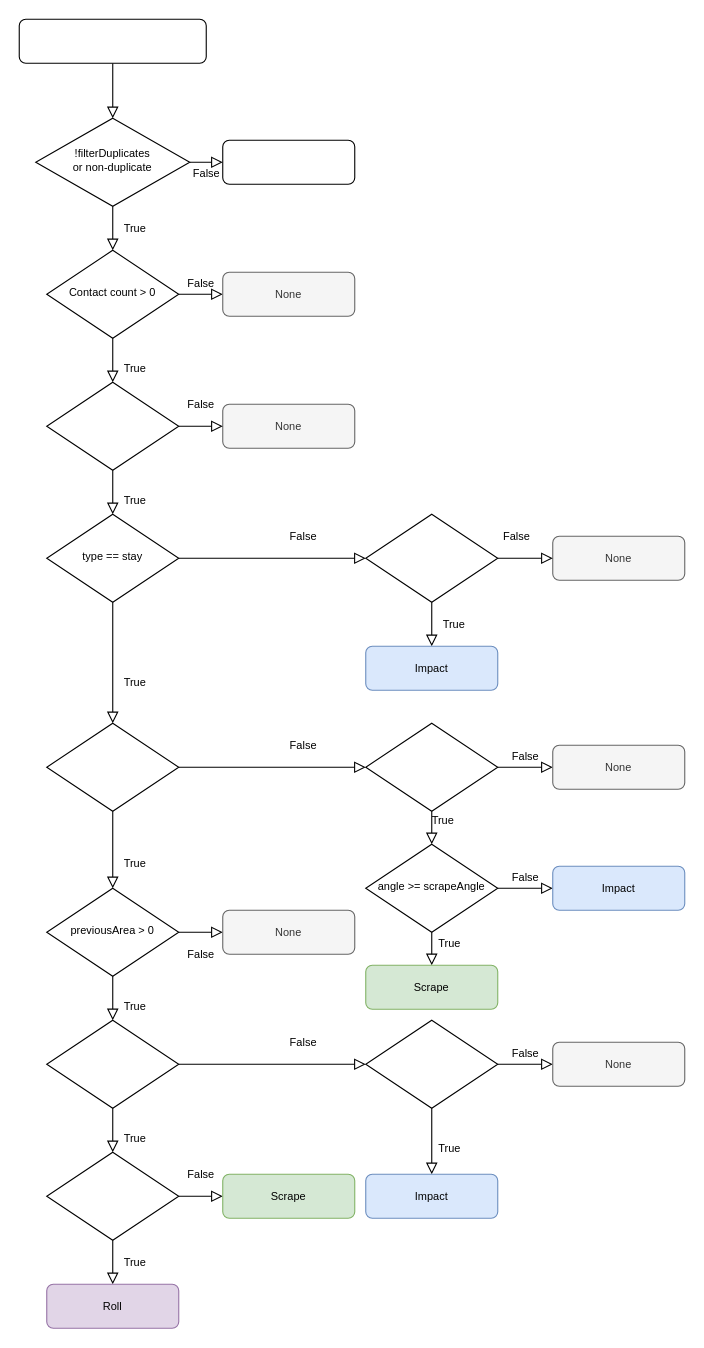
The diagram is 704 pixels wide and 1348 high, and some of its shapes have lost their labels. Here are the shapes that lost their labels. From the top down, the centre of each, then its label:
At [112,40]: "RegisterCollision(collision, type)".
At [288,161]: "(Ignore)".
At [112,425]: "speed >= minSpeed".
At [431,557]: "type == enter".
At [112,766]: "hasPreviousArea".
At [431,766]: "area > areaNewCollision".
At [112,1063]: "area / previousArea < impactAreaRatio".
At [431,1063]: "separation >= maxContactSeparation".
At [112,1195]: "angular speed > rollAngularSpeed".
